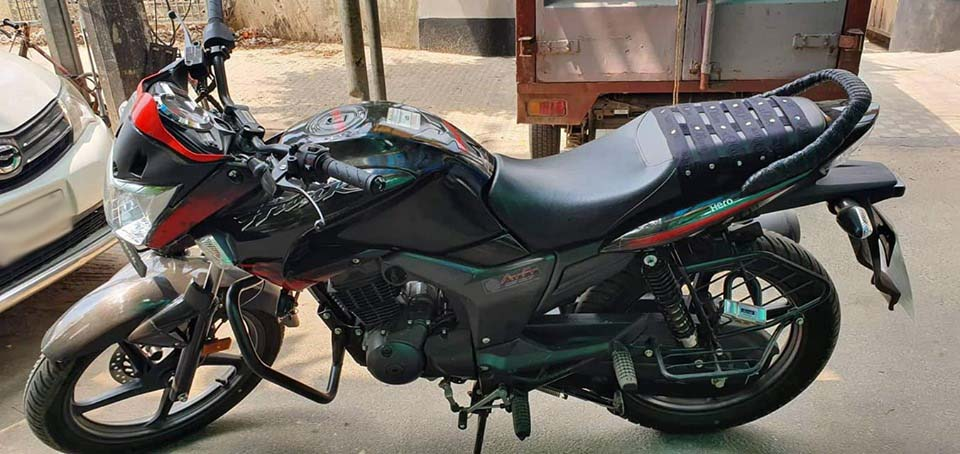bike: (25, 20, 909, 454)
car: (1, 40, 117, 310)
